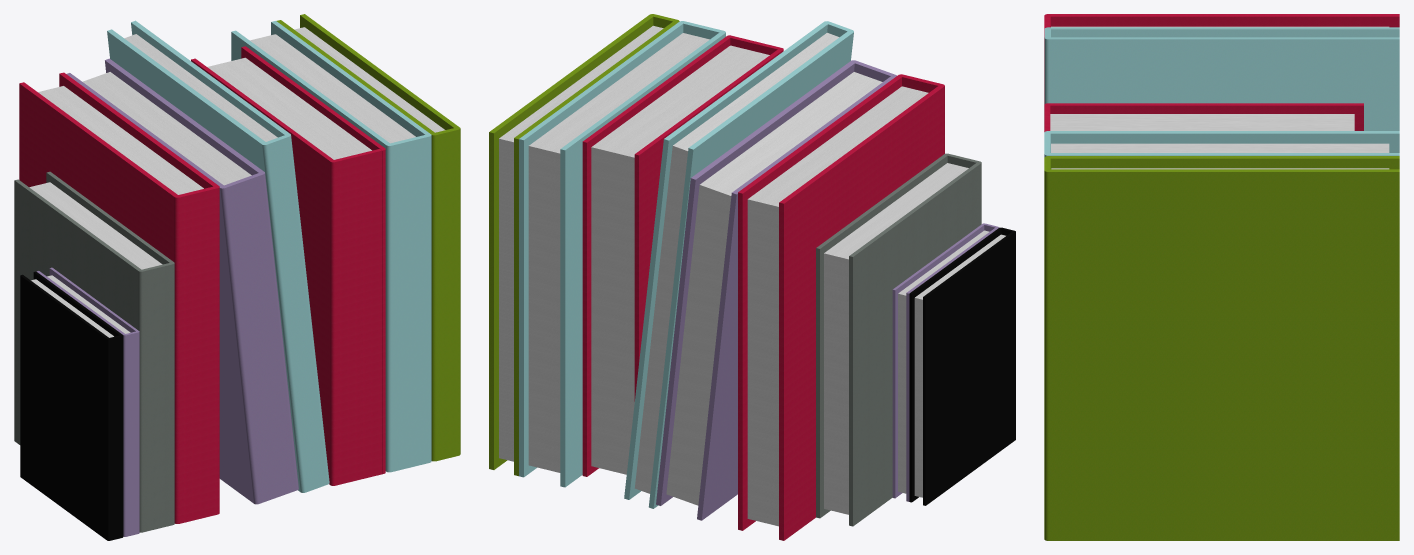
File: Pack De Libros Verticales.glb
3 views of the same model, side by side, from view 1: azimuth 30°, elevation 25°; view 2: azimuth 150°, elevation 25°; view 3: azimuth 270°, elevation 25° (orthographic). The views are drawn at different scales.
Visible parts, largest first — view 1: 9accf63f-491f-427e-8422-9bdb64709a71, fb5b852a-6ceb-4289-84e0-8f0976fbbaa3, 0d7653fe-6c62-4e61-8942-fe1047935f70, 5ed9e594-99ce-48a1-9e58-dcb217843bf7, 628f06ba-3443-4626-90d4-f7843085f5f7, 6dd6b8a0-0450-4e18-b075-167d958599e4, b0163eaf-06b7-4019-b479-0d29815708c8, b6a80ade-5075-45d3-8043-7bc852289711, 1bee5122-8a8c-4564-9cd2-f2f3b1669183, d6291aa2-c500-4fc8-98ad-df6de8f961d10, 879c5cbc-4552-4514-b151-bc667b5b531a, 7bed3a4c-3281-47de-9ca9-e1dfc90e6cc7 (+5 smaller); view 2: 9accf63f-491f-427e-8422-9bdb64709a71, 628f06ba-3443-4626-90d4-f7843085f5f7, 5ed9e594-99ce-48a1-9e58-dcb217843bf7, 1bee5122-8a8c-4564-9cd2-f2f3b1669183, 879c5cbc-4552-4514-b151-bc667b5b531a, 6dd6b8a0-0450-4e18-b075-167d958599e4, 7bed3a4c-3281-47de-9ca9-e1dfc90e6cc7, 5a672554-9502-40fc-b4d1-0b1afea8f85d, 0d7653fe-6c62-4e61-8942-fe1047935f70, b0163eaf-06b7-4019-b479-0d29815708c8, d2a008ee-b892-4cdd-91fd-f934cb7aa476, b6a80ade-5075-45d3-8043-7bc852289711 (+7 smaller); view 3: b6a80ade-5075-45d3-8043-7bc852289711, b0163eaf-06b7-4019-b479-0d29815708c8, 6dd6b8a0-0450-4e18-b075-167d958599e4, 1bee5122-8a8c-4564-9cd2-f2f3b1669183, 9accf63f-491f-427e-8422-9bdb64709a71, fb5b852a-6ceb-4289-84e0-8f0976fbbaa3, 7bed3a4c-3281-47de-9ca9-e1dfc90e6cc7, 00b24e12-665c-4b4d-9f97-342f71cac478, 5a672554-9502-40fc-b4d1-0b1afea8f85d.
Boxes of the visible parts, x1,y1,x2,y2 form: 9accf63f-491f-427e-8422-9bdb64709a71: (19,72,219,523); fb5b852a-6ceb-4289-84e0-8f0976fbbaa3: (191,58,382,485); 0d7653fe-6c62-4e61-8942-fe1047935f70: (66,58,298,504); 5ed9e594-99ce-48a1-9e58-dcb217843bf7: (20,271,123,540); 628f06ba-3443-4626-90d4-f7843085f5f7: (14,171,174,532); 6dd6b8a0-0450-4e18-b075-167d958599e4: (231,21,431,472); b0163eaf-06b7-4019-b479-0d29815708c8: (107,20,329,492); b6a80ade-5075-45d3-8043-7bc852289711: (276,14,460,461); 1bee5122-8a8c-4564-9cd2-f2f3b1669183: (207,57,371,159); d6291aa2-c500-4fc8-98ad-df6de8f961d10: (36,267,139,536); 879c5cbc-4552-4514-b151-bc667b5b531a: (82,72,251,185); 7bed3a4c-3281-47de-9ca9-e1dfc90e6cc7: (250,34,415,143); 9accf63f-491f-427e-8422-9bdb64709a71: (738,74,944,540); 628f06ba-3443-4626-90d4-f7843085f5f7: (816,153,981,526); 5ed9e594-99ce-48a1-9e58-dcb217843bf7: (909,227,1015,505); 1bee5122-8a8c-4564-9cd2-f2f3b1669183: (591,45,769,474); 879c5cbc-4552-4514-b151-bc667b5b531a: (666,72,882,505); 6dd6b8a0-0450-4e18-b075-167d958599e4: (519,21,725,487); 7bed3a4c-3281-47de-9ca9-e1dfc90e6cc7: (528,33,709,472); 5a672554-9502-40fc-b4d1-0b1afea8f85d: (747,86,928,526); 0d7653fe-6c62-4e61-8942-fe1047935f70: (656,60,896,520); b0163eaf-06b7-4019-b479-0d29815708c8: (624,21,853,508); d2a008ee-b892-4cdd-91fd-f934cb7aa476: (824,163,968,514); b6a80ade-5075-45d3-8043-7bc852289711: (489,14,679,476); b6a80ade-5075-45d3-8043-7bc852289711: (1044,156,1399,540); b0163eaf-06b7-4019-b479-0d29815708c8: (1044,27,1399,130); 6dd6b8a0-0450-4e18-b075-167d958599e4: (1044,131,1399,157); 1bee5122-8a8c-4564-9cd2-f2f3b1669183: (1050,114,1354,130); 9accf63f-491f-427e-8422-9bdb64709a71: (1044,14,1399,131); fb5b852a-6ceb-4289-84e0-8f0976fbbaa3: (1044,103,1363,130); 7bed3a4c-3281-47de-9ca9-e1dfc90e6cc7: (1051,143,1389,152); 00b24e12-665c-4b4d-9f97-342f71cac478: (1051,168,1389,169); 5a672554-9502-40fc-b4d1-0b1afea8f85d: (1051,26,1388,27).
Size of the model in its own units: 0.2213 by 0.2157 by 0.1702.
Materials: 7 (6 with a texture image).
